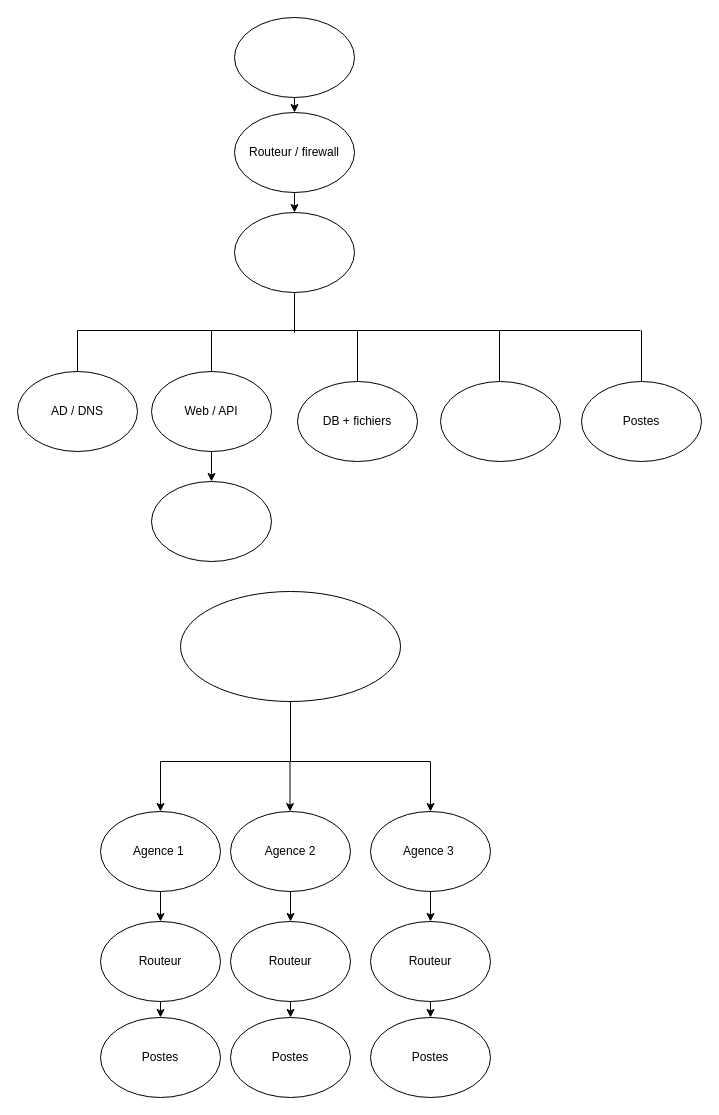
The diagram is 719 pixels wide and 1115 high, and some of its shapes have lost their labels. Here are the shapes that lost their labels. From the top down, the centre of each, then its label:
(x=294, y=57): Internet
(x=294, y=252): Switch
(x=500, y=421): Backup (Cloud)
(x=211, y=521): Lan siége
(x=290, y=646): VPN Ipsec (depuis le routeur)
